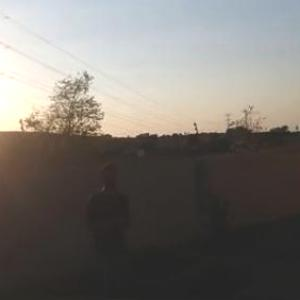follow: (82, 161, 140, 299)
